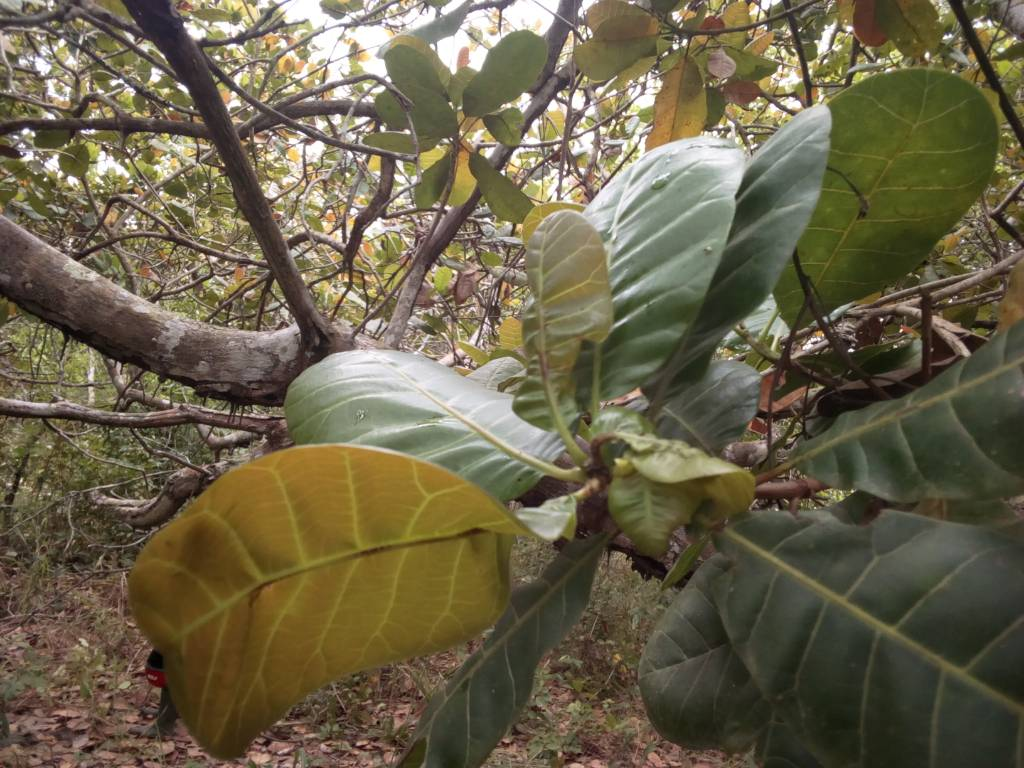Helopeltis anacardii: (130, 449, 583, 747), (511, 213, 610, 429), (614, 448, 758, 557)
